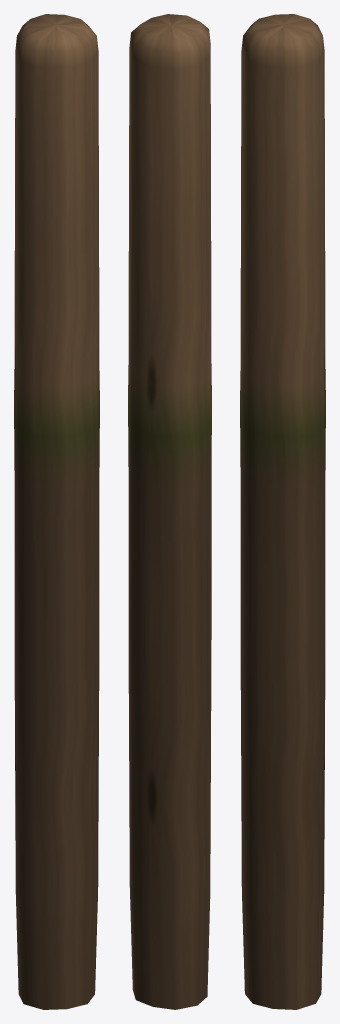
The model's file is wharf-piling.glb.
3 views of the same model, side by side, from view 1: azimuth 90°, elevation 25°; view 2: azimuth 150°, elevation 25°; view 3: azimuth 270°, elevation 25° (orthographic).
Parts seen in each view (by area): view 1: wharf-piling; view 2: wharf-piling; view 3: wharf-piling.
Part boxes in pixels (left/top/right/bottom): wharf-piling: left=14, top=14, right=99, bottom=1009; wharf-piling: left=128, top=14, right=211, bottom=1009; wharf-piling: left=240, top=14, right=325, bottom=1009.
Bounding box in the file's own units: 0.2937 × 3.75 × 0.301.
Materials: 1 (1 with a texture image).
